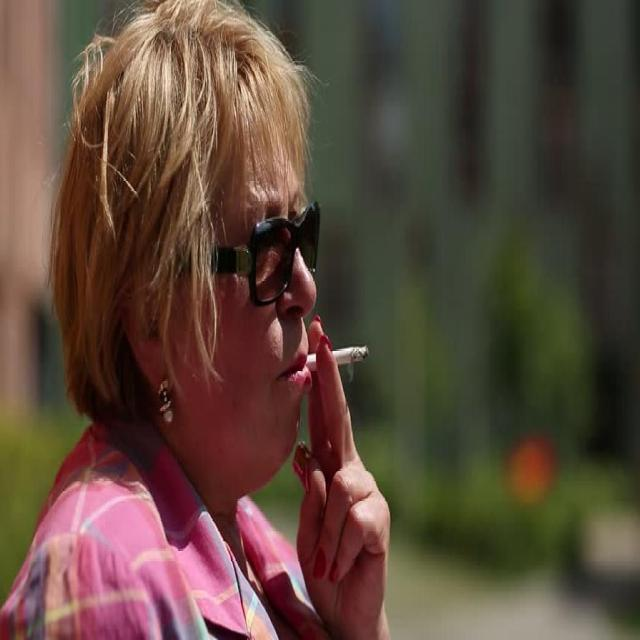smoking: (61, 0, 412, 614)
